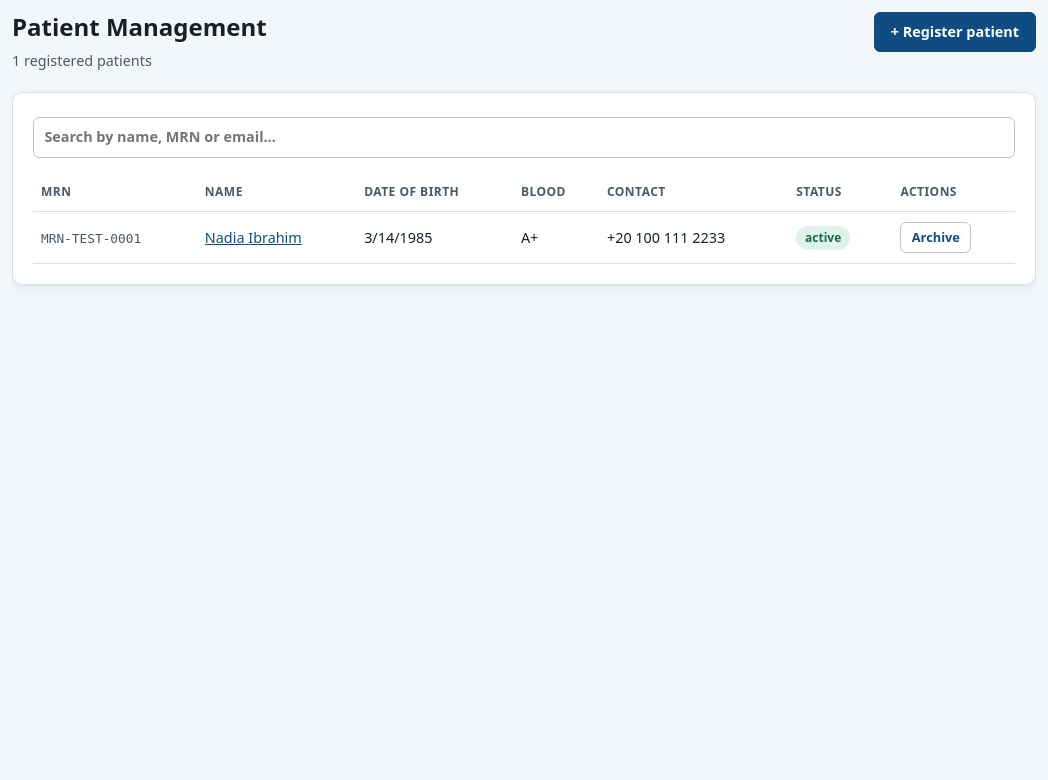
Test: <PatientManagement /> › paints a new patient into the list optimistically before the server responds
The width and height of the screenshot is (1048, 780).
Expected: the link "Nadia Ibrahim" is shown, [205,228,302,246]
Click the button "+ Register patient". click: (955, 32)
box: [874,12,1036,52]
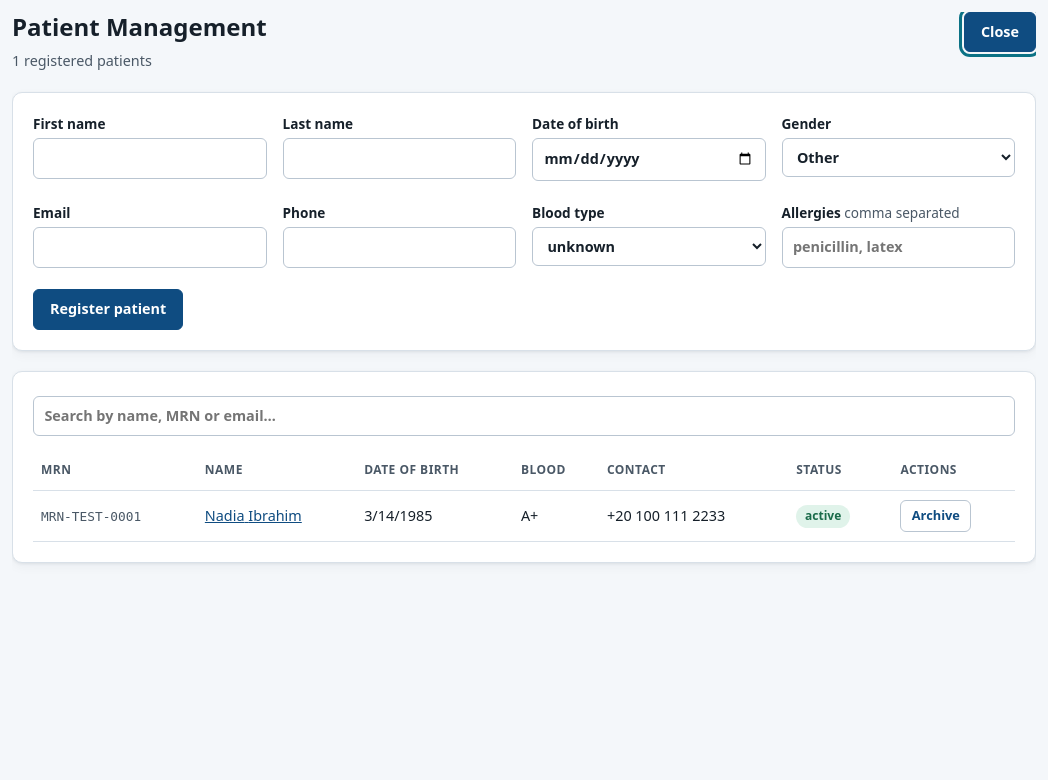
Type "Ziad" into the field labelled "First name". click: (150, 159)
box: [33,138,266,179]
Type "Hafez" into the field labelled "Last name". click: (399, 159)
box: [282,138,516,179]
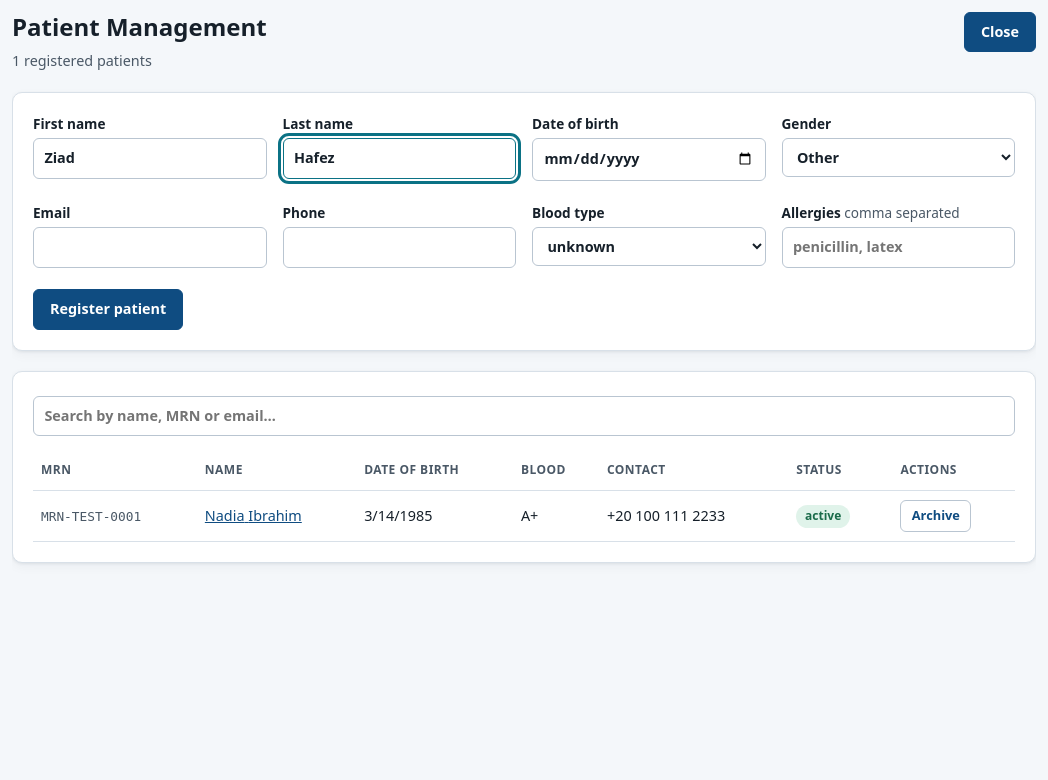
Type "1991-09-17" into the date field labelled "Date of birth". click: (649, 160)
box: [532,138,766,181]
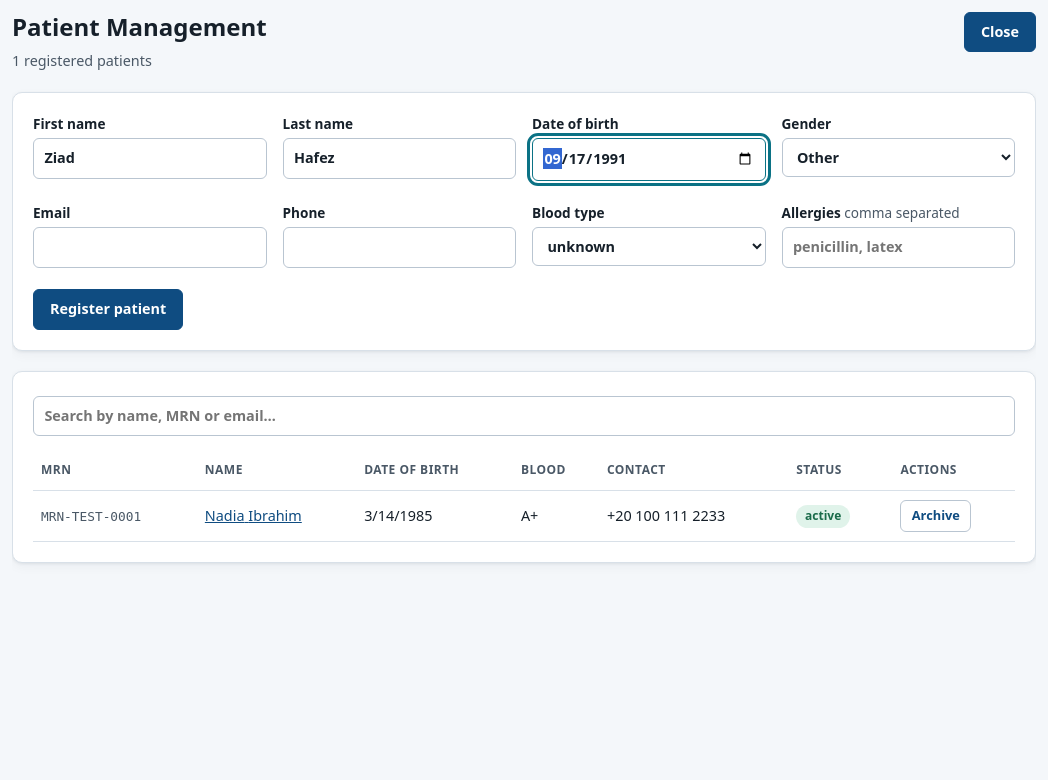
Type "ziad.hafez@example.com" into the field labelled "Email". click: (150, 248)
box: [33,227,266,268]
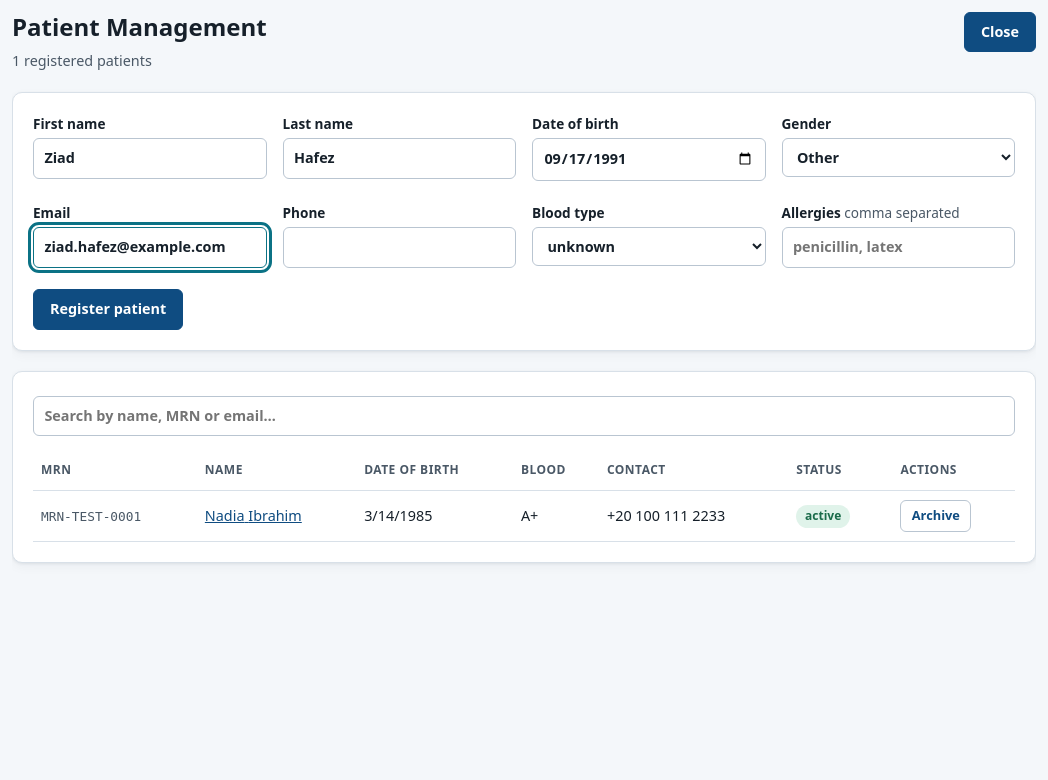
Type "+20 100 666 7788" into the field labelled "Phone". click: (399, 248)
box: [282,227,516,268]
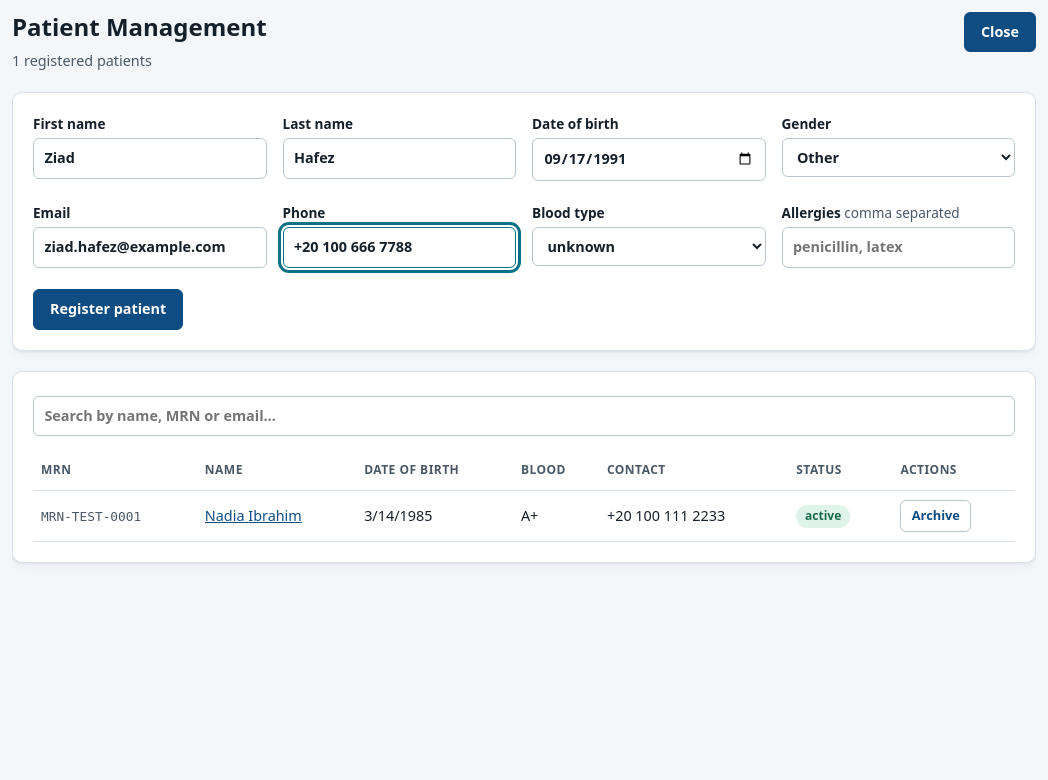
Click the button "Register patient". click: (108, 309)
box: [33,289,183,330]
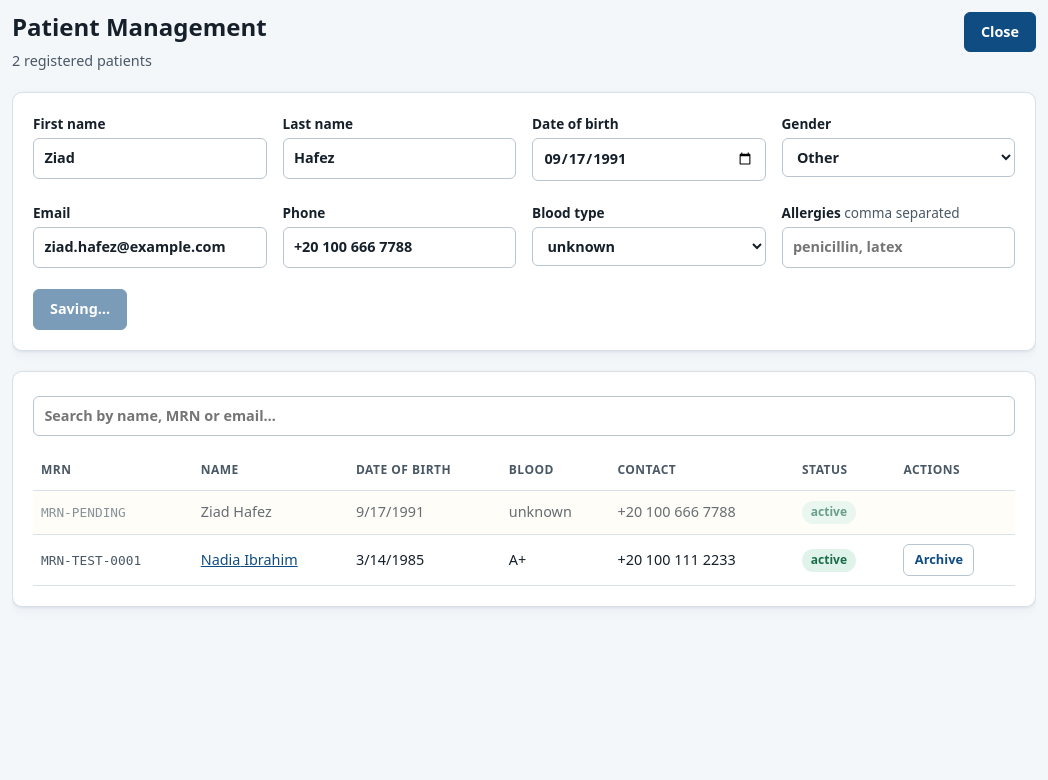
Expected: the text "Ziad Hafez" is shown, [193,490,348,534]
Expected: the text "MRN-PENDING" is shown, [41,505,126,520]
